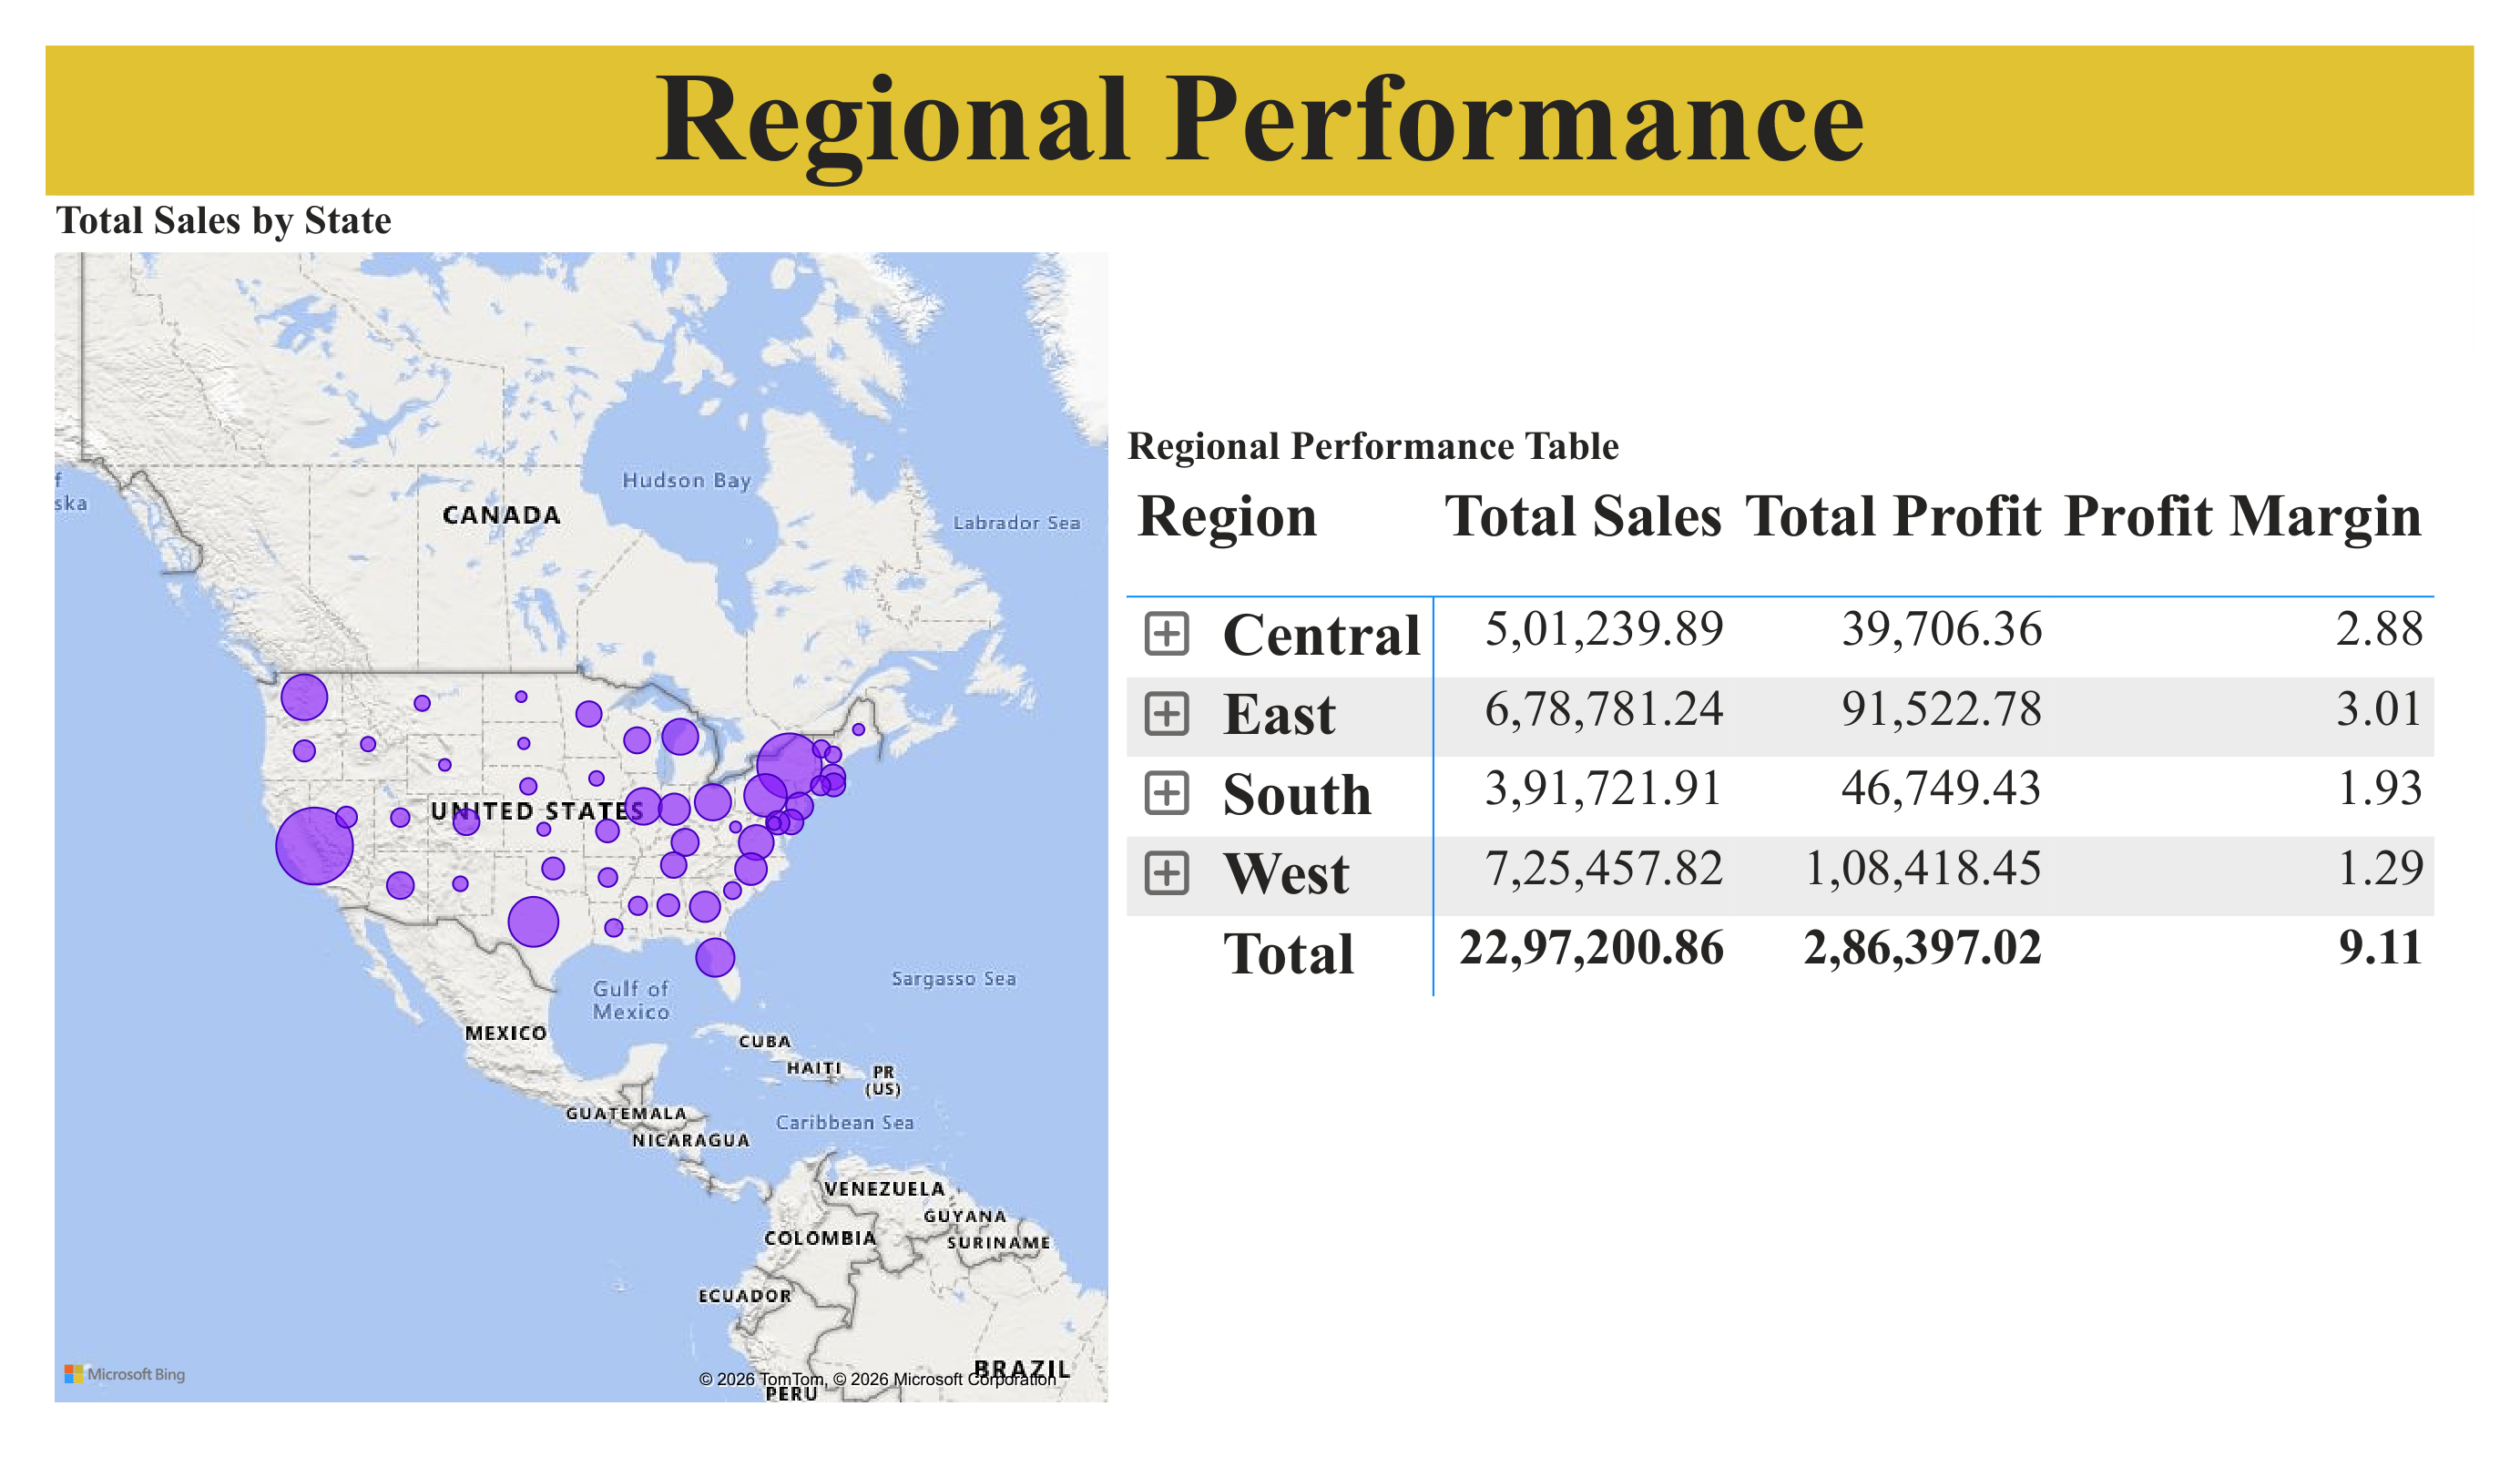

Layout of this report page (visuals, bound fields, positions):
{"tool":"powerbi","page":{"name":"Regional Performance","canvas":[1280,720],"ordinal":2},"visuals":[{"type":"map","title":"Total Sales by State","fields":{"Category":["regional_summary.State"],"Size":["Sum(regional_summary.Total_Sales)"]},"box":[0,79.6,565.4,640.8],"z":0},{"type":"textbox","title":"Regional Performance","box":[0,0,1280,78.6],"z":1},{"type":"pivotTable","title":"Regional Performance Table","fields":{"Rows":["regional_summary.Region","regional_summary.State"],"Values":["Sum(regional_summary.Total_Sales)","Sum(regional_summary.Total_Profit)","Sum(regional_summary.Profit_Margin)"]},"box":[565.4,199,714.9,321.1],"z":3}]}

Visuals, with their boxes on the page's 1280x720 design canvas (x1, y1, x2, y2). These are canvas units, not pixel positions in the 2520x1457 screenshot, which may show the page scaled, cropped or inside an application window:
"Total Sales by State" map: [x1=0, y1=80, x2=565, y2=720]
"Regional Performance" textbox: [x1=0, y1=0, x2=1280, y2=79]
"Regional Performance Table" pivotTable: [x1=565, y1=199, x2=1280, y2=520]
